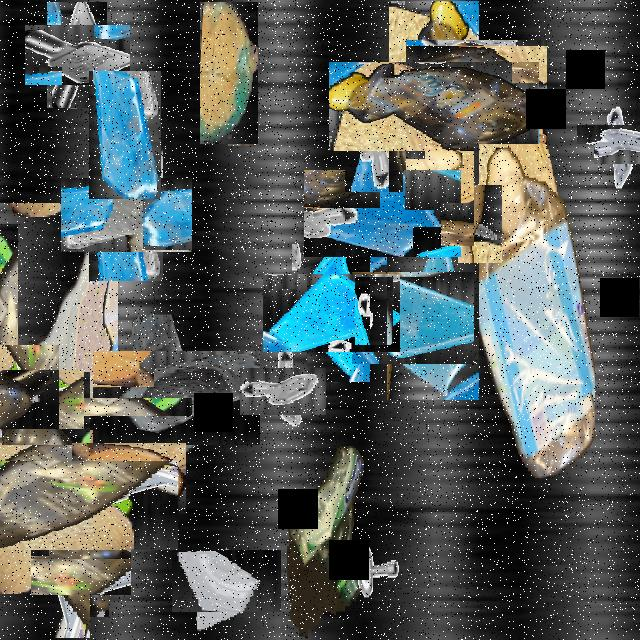glass: (110, 333, 242, 463), (369, 254, 497, 382), (322, 152, 444, 275), (277, 259, 385, 367), (74, 164, 178, 266), (89, 71, 161, 199), (183, 538, 269, 624), (42, 528, 120, 606)
metal: (36, 13, 119, 97), (0, 357, 71, 442), (345, 89, 403, 192), (352, 539, 408, 638), (250, 358, 316, 424), (450, 193, 510, 254), (588, 112, 640, 175), (355, 277, 393, 345)
plastic: (474, 144, 594, 478), (0, 203, 118, 430), (0, 415, 134, 594), (359, 32, 509, 182), (0, 311, 105, 503), (287, 443, 365, 638), (0, 437, 101, 558)
wood: (394, 52, 558, 215), (12, 430, 140, 558), (82, 432, 176, 524), (200, 2, 258, 144)
